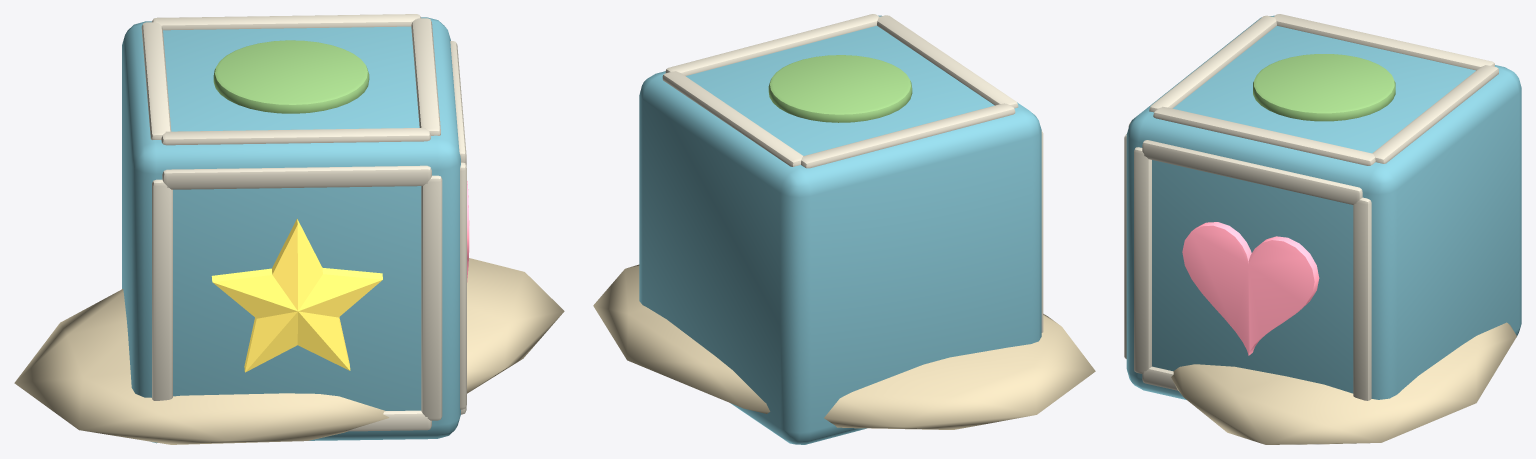
File: bg_toy_block.glb
3 views of the same model, side by side, from view 1: azimuth 30°, elevation 25°; view 2: azimuth 150°, elevation 25°; view 3: azimuth 270°, elevation 25° (orthographic). The views are drawn at different scales.
Parts seen in each view (by area): view 1: bg_toy_block; view 2: bg_toy_block; view 3: bg_toy_block.
Boxes of the visible parts, bbox=[...] form: bg_toy_block: bbox=[14, 14, 564, 444]; bg_toy_block: bbox=[593, 14, 1095, 444]; bg_toy_block: bbox=[1124, 14, 1521, 444].
Size of the model in its own units: 1.88 by 1.15 by 1.44.
